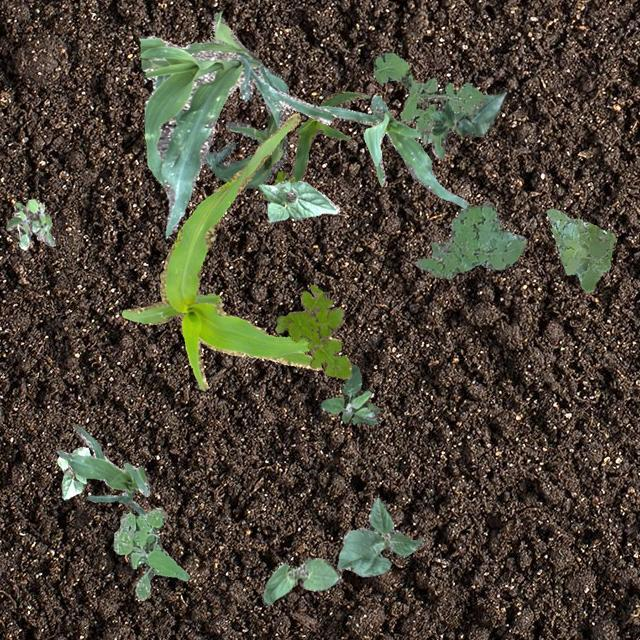crop: (120, 112, 336, 390), (138, 10, 332, 236), (318, 94, 468, 208), (202, 66, 288, 186), (55, 422, 148, 514), (290, 90, 370, 180), (336, 496, 424, 576), (420, 90, 506, 158), (260, 556, 340, 604), (258, 180, 338, 222), (56, 446, 90, 498)
weed: (372, 49, 484, 132), (416, 200, 526, 278), (112, 506, 188, 600), (274, 284, 350, 378), (546, 208, 614, 292), (320, 364, 378, 424), (6, 198, 54, 248), (274, 170, 294, 183)
